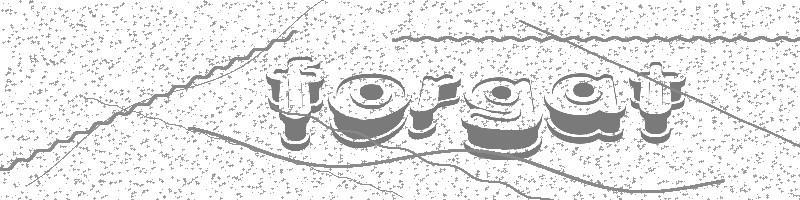a: (545, 73, 627, 144)
f: (267, 57, 323, 152)
g: (462, 78, 544, 160)
o: (329, 73, 409, 148)
r: (410, 74, 462, 140)
t: (632, 62, 687, 144)
